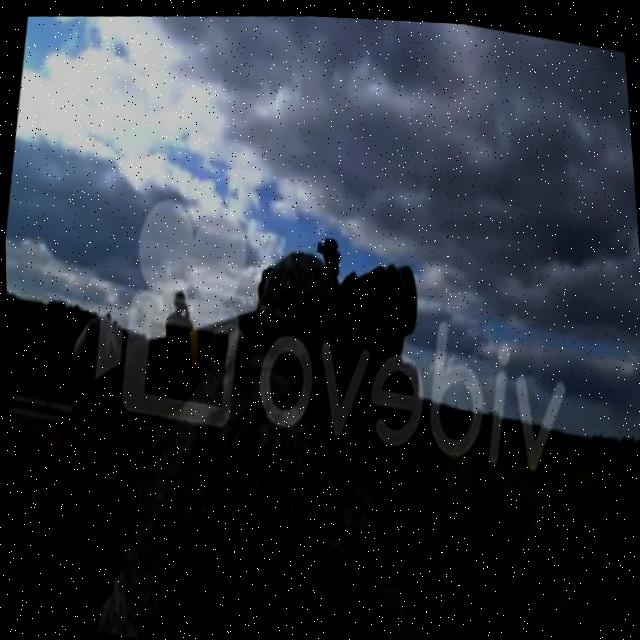rocket: (43, 184, 439, 533)
